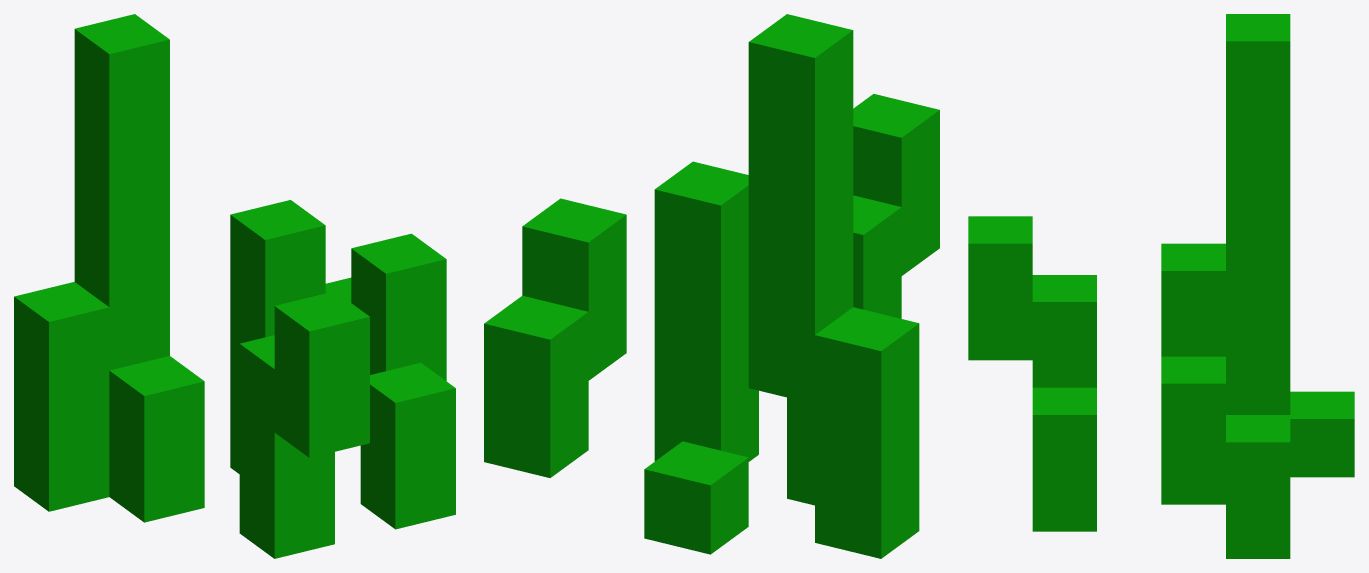
Rendered from grass.gltf.
3 views of the same model, side by side, from view 1: azimuth 30°, elevation 25°; view 2: azimuth 150°, elevation 25°; view 3: azimuth 270°, elevation 25° (orthographic). The views are drawn at different scales.
Size of the model in its own units: 6 by 7 by 6.
